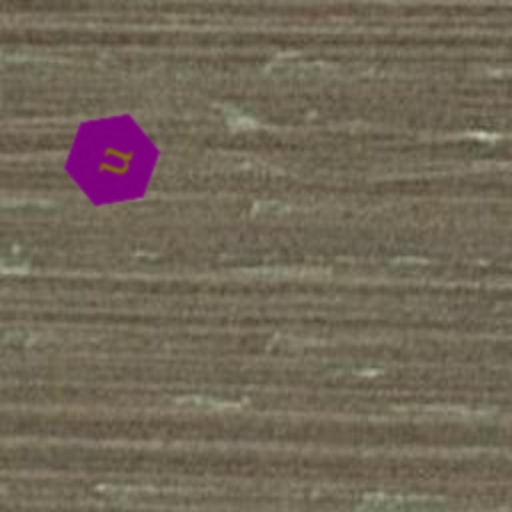hexagon: (48, 96, 176, 224)
